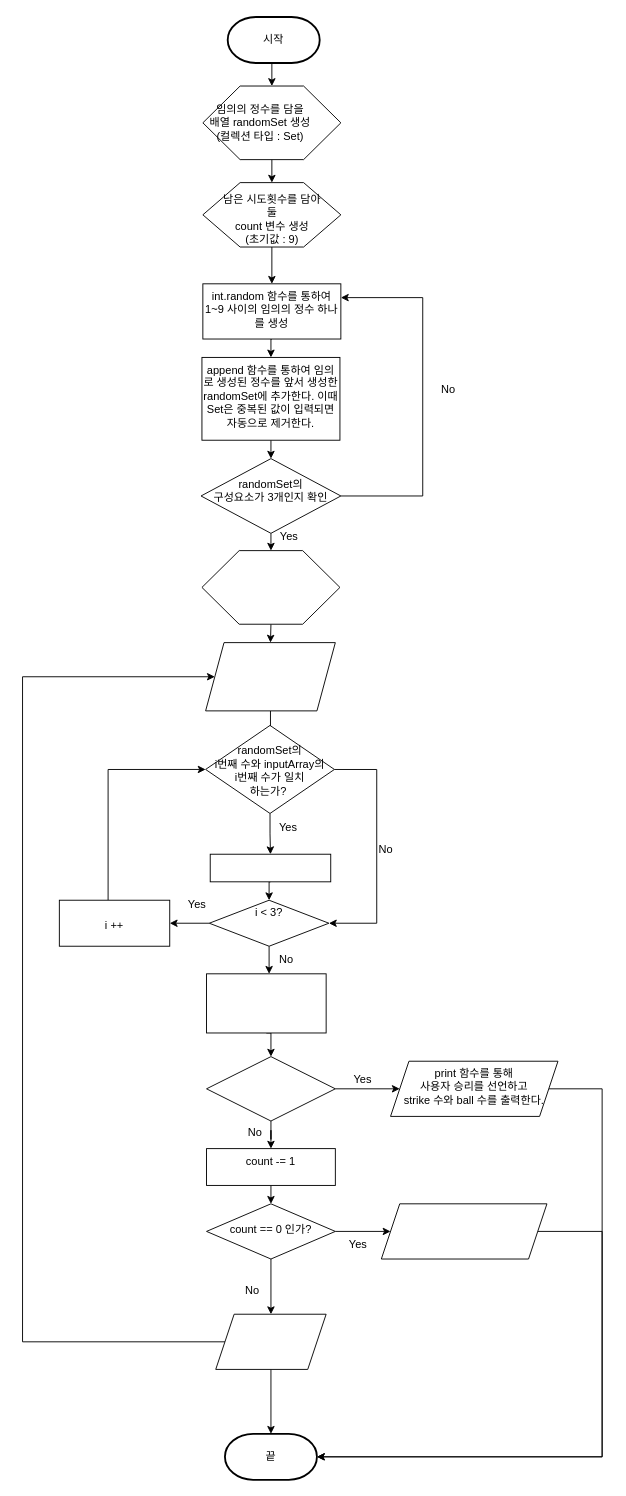
Image size: 626x1496. Some labels were removed from this diagram. Each missing label, with the centre of its shape:
"print 함수를 통해 strike 수와 ball 수를 출력한다." belongs at (x=270, y=1341).
"print 함수를 통해 컴퓨터 승리를 선언하고 strike 수와 ball 수를 출력한다." belongs at (x=463, y=1231).
"randomSet과 inputArray의 교집합의 수에서 스트라이크의 수를 뺀 값을 볼의 수로 할당한다." belongs at (x=266, y=1003).
"readLine 함수를 통해 3개의 수를 입력받아 배열 inputArray에 할당한다" belongs at (x=270, y=676).
"strike += 1" belongs at (x=270, y=867).
"strike == 3 인가?" belongs at (x=270, y=1088).
"스트라이크와 볼의 개수를 저장할 변수 strike와 ball을 0으로 초기화한다." belongs at (x=270, y=587).
